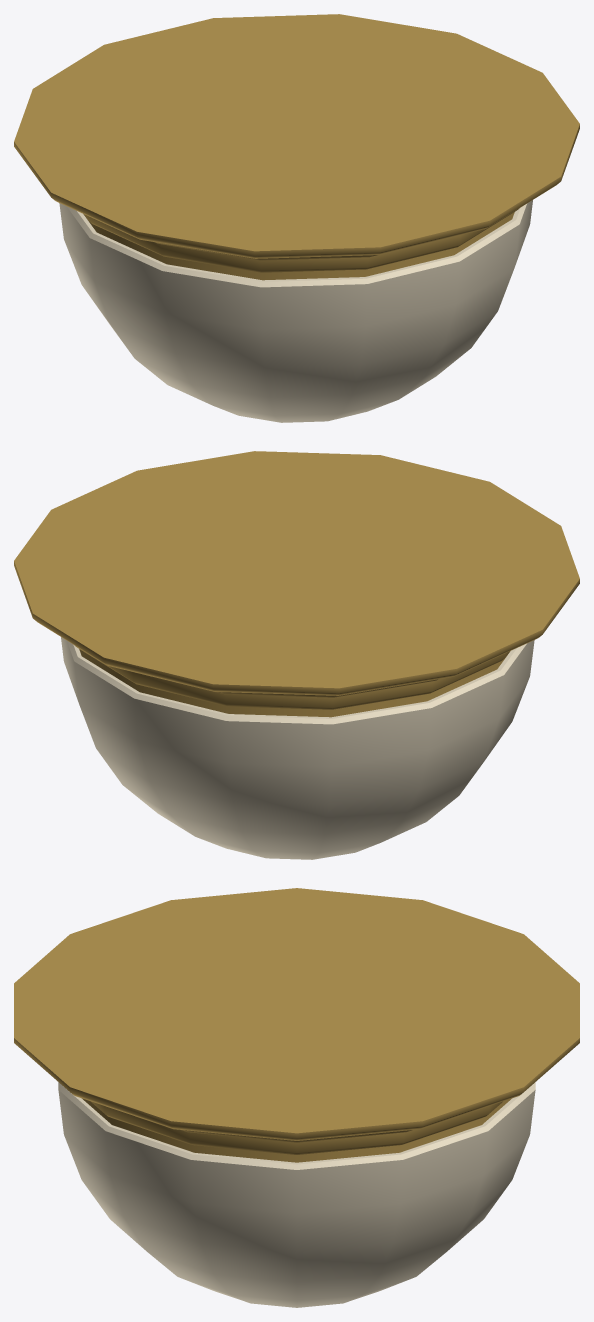
File: MiscCeilingLight.fbx
The picture shows the model from 3 angles, top to bottom: view 1: azimuth 30°, elevation 25°; view 2: azimuth 150°, elevation 25°; view 3: azimuth 270°, elevation 25°; orthographic projection. The views are drawn at different scales.
Visible parts, largest first — view 1: light:pSphere3; view 2: light:pSphere3; view 3: light:pSphere3.
Part boxes in pixels (box(x1,y1,x2,y2)): light:pSphere3: box(14, 14, 579, 422); light:pSphere3: box(14, 451, 579, 859); light:pSphere3: box(14, 888, 579, 1307).
Size of the model in its own units: 2.37 by 1.28 by 2.31.
